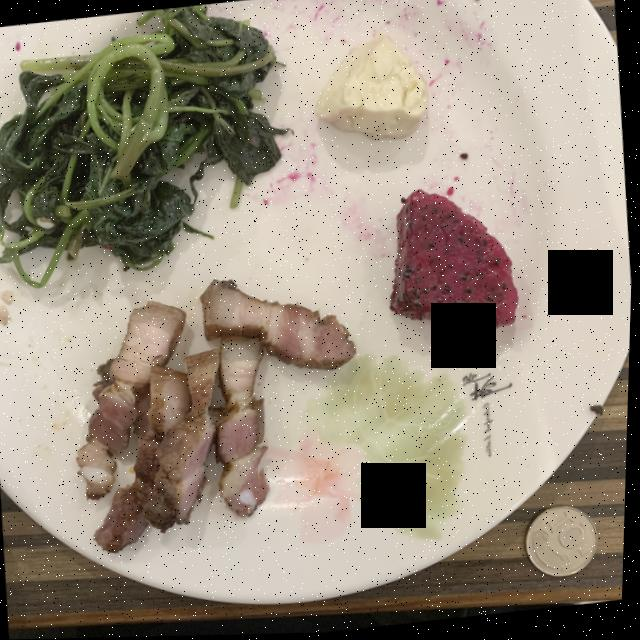coin: (528, 508, 599, 579)
grilled pork: (79, 281, 356, 554)
sweet potato leaves: (0, 6, 289, 288)
